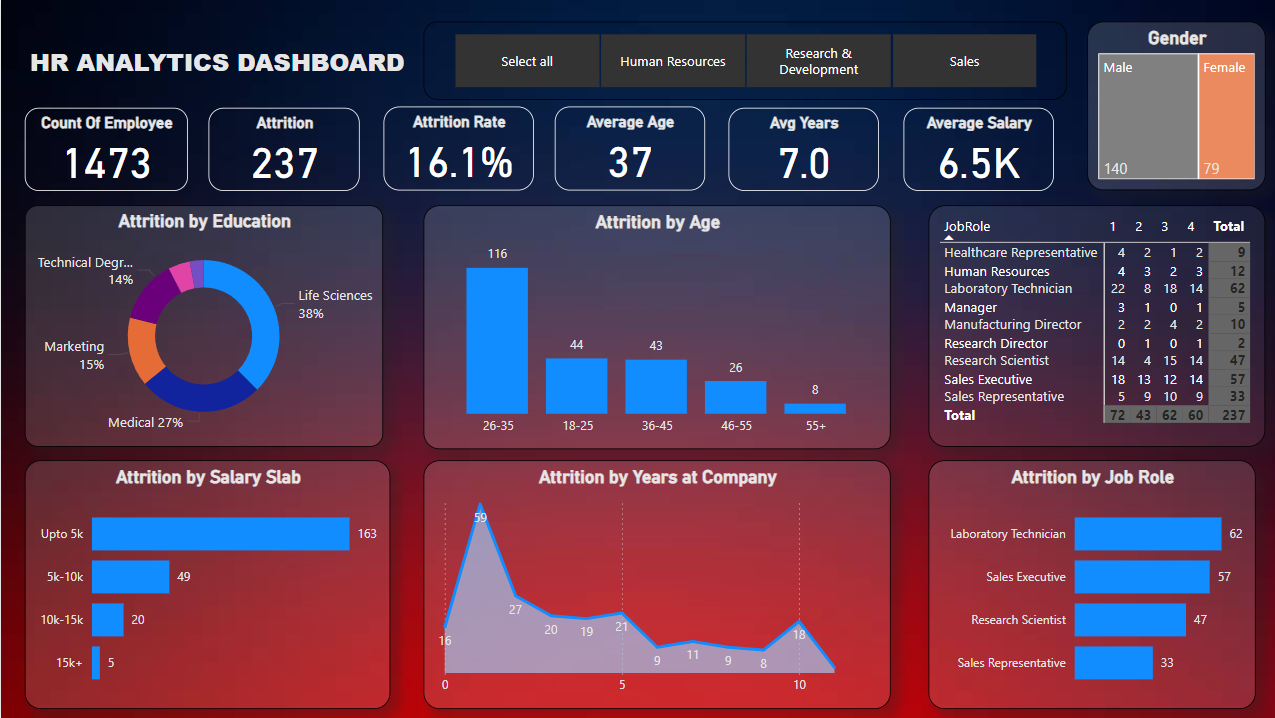

This screenshot's page, from the dashboard's own definition file:
{"tool":"powerbi","page":{"name":"Page 1","canvas":[1280,720],"ordinal":0},"visuals":[{"type":"card","title":"Count Of Employee","fields":{"Values":["CountNonNull(HR_Analytics.EmpID)"]},"box":[24.3,108.6,162.9,82.9],"z":0},{"type":"card","title":"Attrition","fields":{"Values":["Sum(HR_Analytics.AttritionCount)"]},"box":[207.1,108.6,151.4,82.9],"z":1000},{"type":"card","title":"Attrition Rate","fields":{"Values":["HR_Analytics.AttritionRate"]},"box":[382.9,107.1,150,84.3],"z":2000},{"type":"card","title":"Average Age","fields":{"Values":["Avg(HR_Analytics.Age)"]},"box":[554.3,107.1,150,84.3],"z":3000},{"type":"card","title":"Avg Years","fields":{"Values":["Avg(HR_Analytics.YearsAtCompany)"]},"box":[727.1,108.6,150,82.9],"z":4000},{"type":"card","title":"Average Salary","fields":{"Values":["Avg(HR_Analytics.MonthlyIncome)"]},"box":[902.9,108.6,150,82.9],"z":5000},{"type":"donutChart","title":"Attrition by Education","fields":{"Category":["HR_Analytics.EducationField"],"Y":["Sum(HR_Analytics.AttritionCount)"]},"box":[24.3,205.7,358.6,241.4],"z":6000},{"type":"columnChart","title":"Attrition by Age","fields":{"Category":["HR_Analytics.AgeGroup"],"Y":["Sum(HR_Analytics.AttritionCount)"]},"box":[422.9,205.7,467.1,244.3],"z":7000},{"type":"pivotTable","fields":{"Values":["Sum(HR_Analytics.AttritionCount)"],"Columns":["HR_Analytics.EnvironmentSatisfaction"],"Rows":["HR_Analytics.JobRole"]},"box":[927.1,205.7,337.1,241.4],"z":8000},{"type":"barChart","title":"Attrition by Salary Slab","fields":{"Category":["HR_Analytics.SalarySlab"],"Y":["Sum(HR_Analytics.AttritionCount)"]},"box":[24.3,461.4,365.7,248.6],"z":9000},{"type":"barChart","title":"Attrition by Job Role","fields":{"Category":["HR_Analytics.JobRole"],"Y":["Sum(HR_Analytics.AttritionCount)"]},"box":[927.1,461.4,327.1,248.6],"z":10000},{"type":"stackedAreaChart","title":"Attrition by Years at Company","fields":{"Category":["HR_Analytics.YearsAtCompany"],"Y":["Sum(HR_Analytics.AttritionCount)"]},"box":[422.9,461.4,467.1,248.6],"z":11000},{"type":"treemap","title":"Gender","fields":{"Group":["HR_Analytics.Gender"],"Values":["Sum(HR_Analytics.AttritionCount)"]},"box":[1085.7,22.9,178.6,168.6],"z":12000},{"type":"slicer","fields":{"Values":["HR_Analytics.Department"]},"box":[422.9,22.9,642.9,78.6],"z":13000},{"type":"textbox","box":[24.3,41.4,402.9,60],"z":13001}]}

Visuals, with their boxes in screenshot pixels (x1, y1, x2, y2), scaled from the page's 1280x720 canvas onto the 1275x718 screenshot:
"Count Of Employee" card: rect(24, 108, 186, 191)
"Attrition" card: rect(206, 108, 357, 191)
"Attrition Rate" card: rect(381, 107, 531, 191)
"Average Age" card: rect(552, 107, 702, 191)
"Avg Years" card: rect(724, 108, 874, 191)
"Average Salary" card: rect(899, 108, 1049, 191)
"Attrition by Education" donutChart: rect(24, 205, 381, 446)
"Attrition by Age" columnChart: rect(421, 205, 887, 449)
pivotTable - Sum(HR_Analytics.AttritionCount) x HR_Analytics.EnvironmentSatisfaction: rect(923, 205, 1259, 446)
"Attrition by Salary Slab" barChart: rect(24, 460, 388, 708)
"Attrition by Job Role" barChart: rect(923, 460, 1249, 708)
"Attrition by Years at Company" stackedAreaChart: rect(421, 460, 887, 708)
"Gender" treemap: rect(1081, 23, 1259, 191)
slicer - HR_Analytics.Department: rect(421, 23, 1062, 101)
textbox: rect(24, 41, 426, 101)
